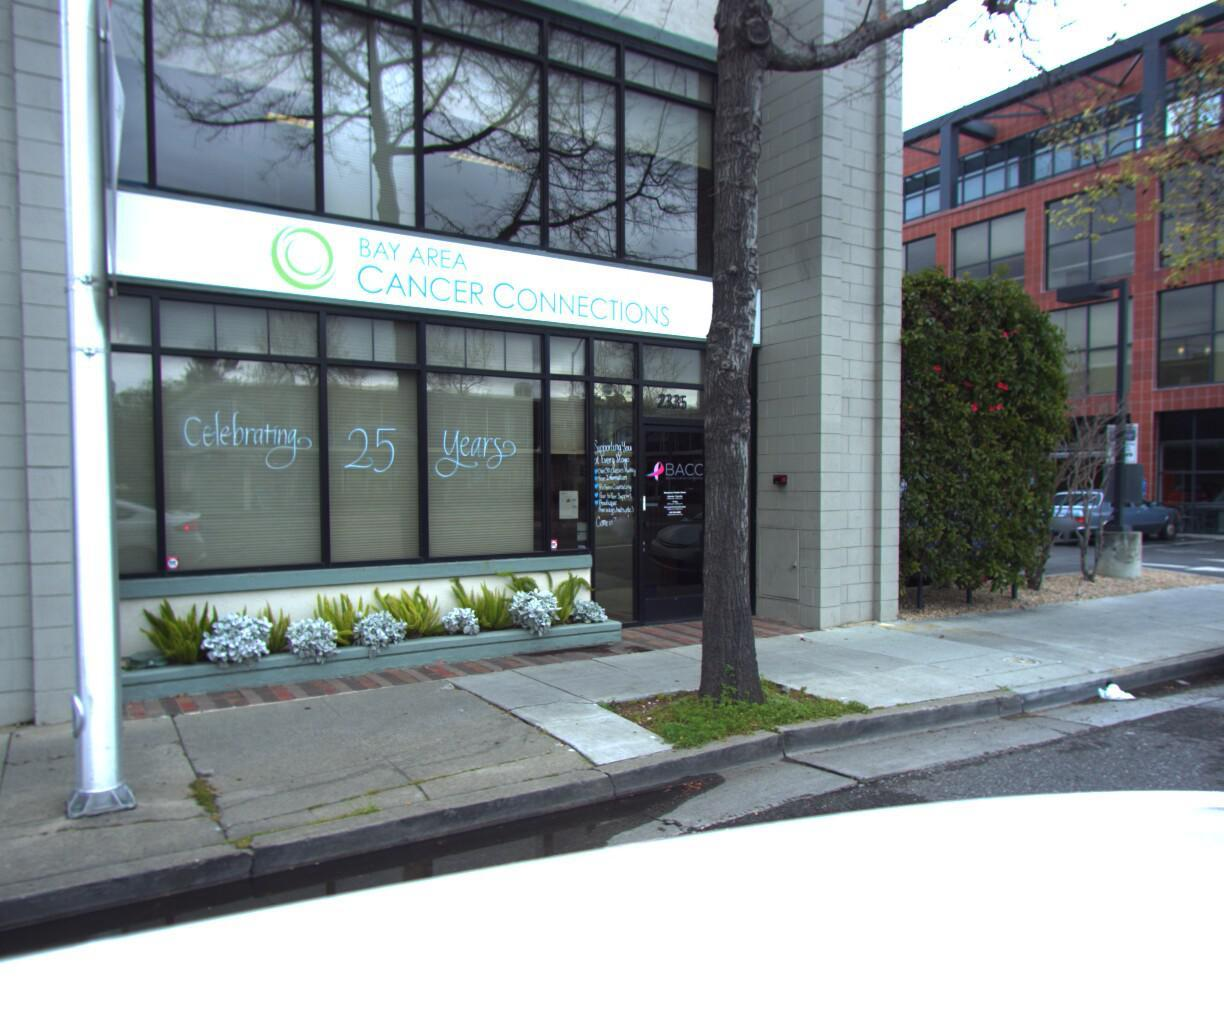car: (1018, 485, 1195, 556)
